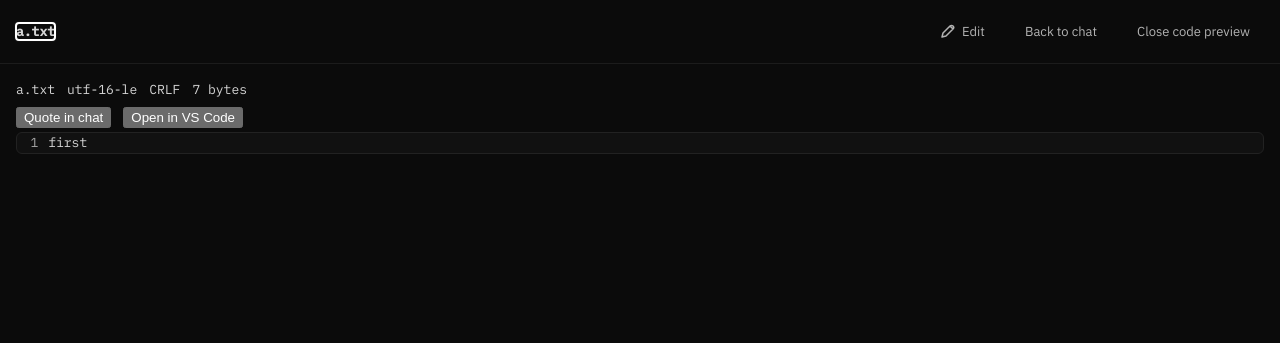
Scenario: blocked center Save refreshes reachable recovery only after explicit Edit
Click the button "Edit" at (962, 31), box left=926, top=15, right=999, bottom=47
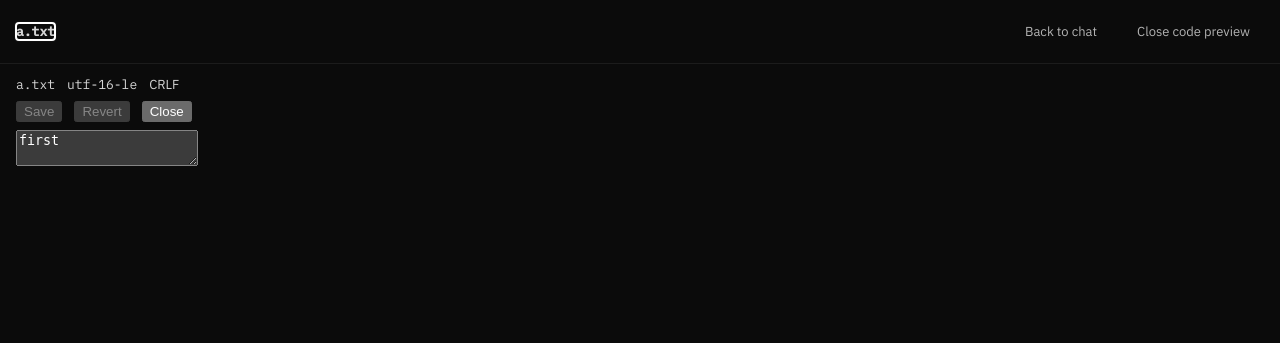
Replace the text in the text box named "Edit a.txt" with "kept " at (107, 148), box left=16, top=130, right=198, bottom=166
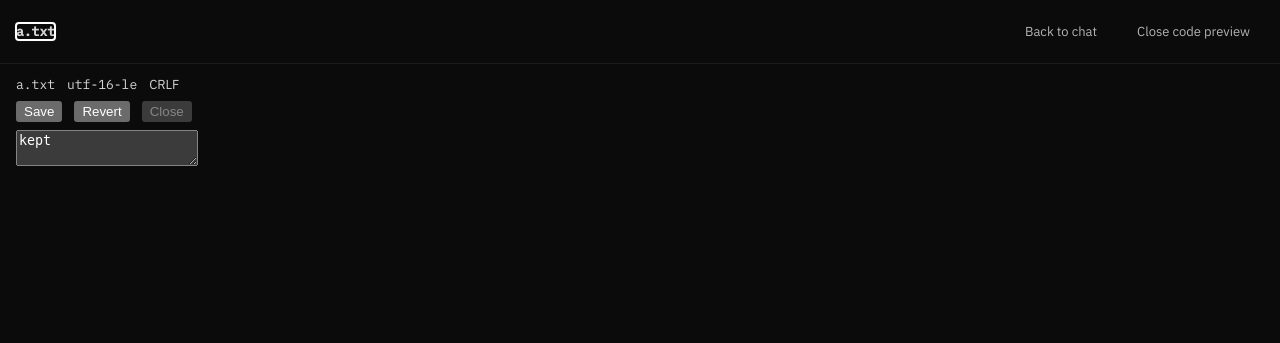
Click the button "Save" at (39, 111), box left=16, top=101, right=62, bottom=122
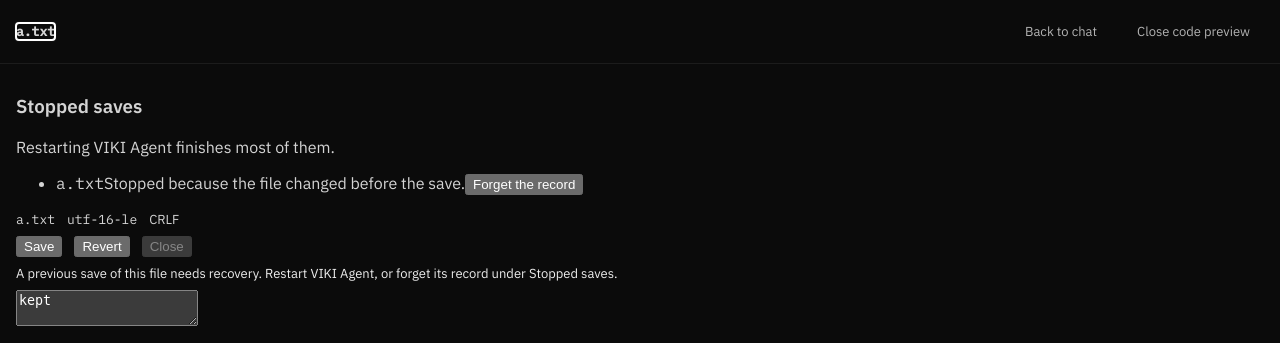
Expected: the heading "Stopped saves" is shown, left=16, top=94, right=142, bottom=118
Expected: the button "Forget the record" is shown, left=465, top=174, right=583, bottom=195
